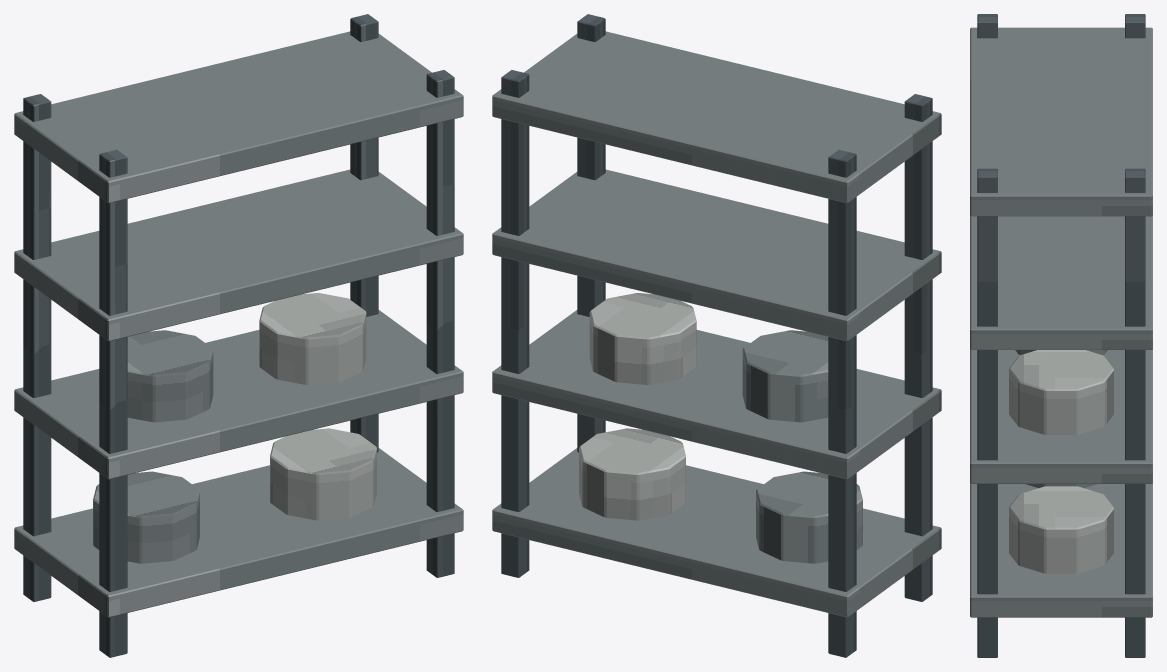
The model's file is prison_kitchen_rack.glb.
3 views of the same model, side by side, from view 1: azimuth 30°, elevation 25°; view 2: azimuth 150°, elevation 25°; view 3: azimuth 270°, elevation 25° (orthographic). The views are drawn at different scales.
Visible parts, largest first — view 1: RackShelf_3, RackShelf_2, RackShelf_0, RackShelf_1, RackPost_-0.62_-0.25, RackPost_0.62_-0.25, RackPost_-0.62_0.25, StockPot_3, StockPot_1, StockPot_2, StockPot_0, RackPost_0.62_0.25; view 2: RackShelf_3, RackShelf_2, RackShelf_0, RackShelf_1, RackPost_-0.62_0.25, RackPost_0.62_0.25, RackPost_-0.62_-0.25, StockPot_3, StockPot_1, StockPot_2, StockPot_0, RackPost_0.62_-0.25; view 3: RackShelf_3, RackShelf_2, RackShelf_1, RackShelf_0, RackPost_0.62_0.25, RackPost_0.62_-0.25, StockPot_1, StockPot_3, RackPost_-0.62_0.25, RackPost_-0.62_-0.25.
Boxes of the visible parts, box(x1,y1,x2,y2) form: RackShelf_3: box(14, 31, 463, 203); RackShelf_2: box(14, 169, 463, 341); RackShelf_0: box(14, 448, 463, 617); RackShelf_1: box(14, 310, 463, 479); RackPost_-0.62_-0.25: box(99, 149, 127, 657); RackPost_0.62_-0.25: box(426, 70, 454, 577); RackPost_-0.62_0.25: box(23, 94, 51, 601); StockPot_3: box(259, 293, 366, 384); StockPot_1: box(270, 428, 376, 520); StockPot_2: box(127, 330, 213, 422); StockPot_0: box(93, 471, 199, 563); RackPost_0.62_0.25: box(350, 14, 378, 452); RackShelf_3: box(492, 31, 941, 203); RackShelf_2: box(492, 169, 941, 341); RackShelf_0: box(492, 448, 941, 617); RackShelf_1: box(492, 310, 941, 479); RackPost_-0.62_0.25: box(828, 149, 856, 657); RackPost_0.62_0.25: box(501, 70, 529, 577); RackPost_-0.62_-0.25: box(904, 94, 932, 601); StockPot_3: box(589, 293, 696, 384); StockPot_1: box(579, 428, 685, 520); StockPot_2: box(742, 330, 828, 422); StockPot_0: box(756, 471, 862, 563); RackPost_0.62_-0.25: box(577, 14, 605, 452); RackShelf_3: box(970, 27, 1152, 216); RackShelf_2: box(970, 215, 1152, 349); RackShelf_1: box(970, 349, 1152, 483); RackShelf_0: box(970, 483, 1152, 617); RackPost_0.62_0.25: box(1125, 168, 1145, 657); RackPost_0.62_-0.25: box(977, 168, 997, 657); StockPot_1: box(1009, 486, 1113, 573); StockPot_3: box(1009, 350, 1113, 434); RackPost_-0.62_0.25: box(1125, 14, 1145, 38); RackPost_-0.62_-0.25: box(977, 14, 997, 38).
Bounding box in the file's own units: 1.35 × 1.8 × 0.62.
Materials: 1 (1 with a texture image).
